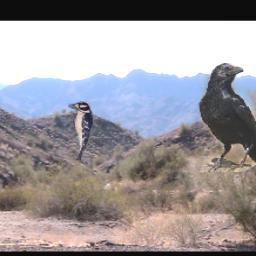Crow: (198, 64, 256, 173)
Woodpecker: (68, 101, 94, 161)
